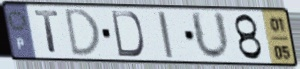8: (233, 13, 265, 62)
D: (64, 7, 103, 59), (110, 9, 146, 58)
I: (155, 10, 176, 60)
T: (32, 9, 62, 56)
U: (188, 9, 233, 63)
